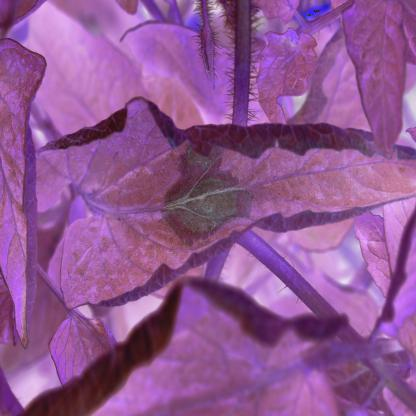Tomato leaf mosaic virus: (49, 118, 416, 302)
